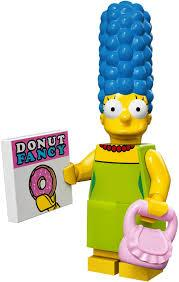Marge: (0, 2, 179, 282)
